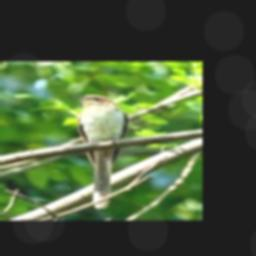Cuckoo: (66, 94, 128, 206)
